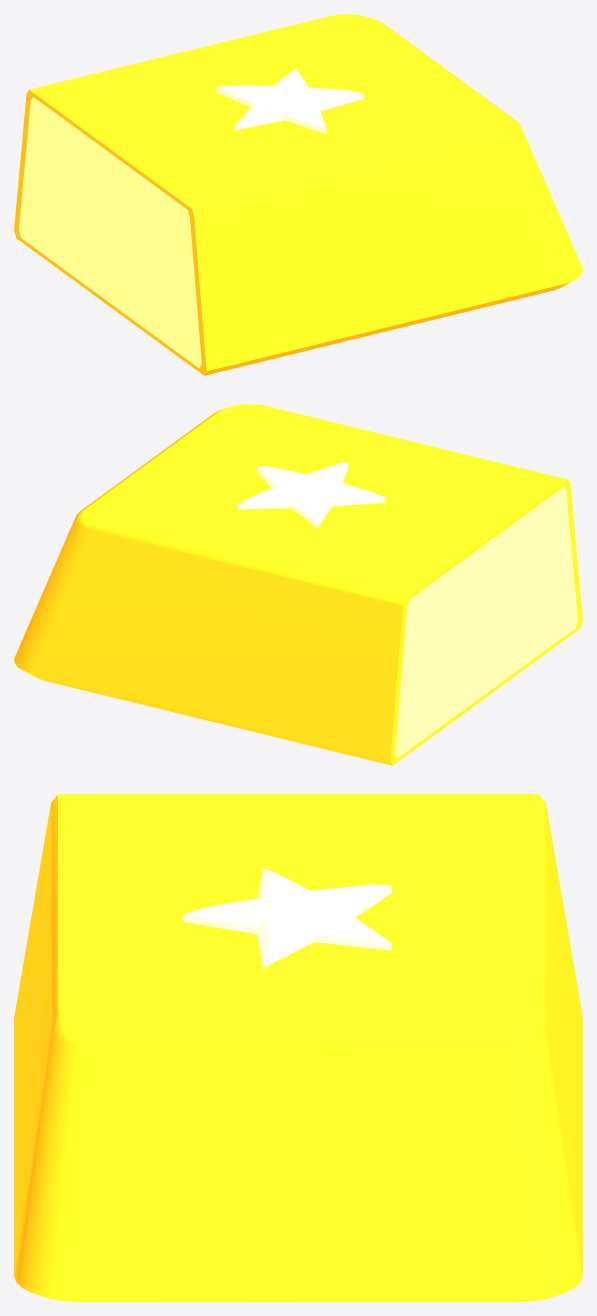
3 views of the same model, one above another, from view 1: azimuth 30°, elevation 25°; view 2: azimuth 150°, elevation 25°; view 3: azimuth 270°, elevation 25° (orthographic). The views are drawn at different scales.
Visible parts, largest first — view 1: Gold-left; view 2: Gold-left; view 3: Gold-left.
Boxes of the visible parts, bbox=[...] form: Gold-left: bbox=[14, 14, 582, 375]; Gold-left: bbox=[14, 404, 582, 765]; Gold-left: bbox=[14, 794, 582, 1301].
Bounding box in the file's own units: 0.7708 × 0.3167 × 0.6583.
